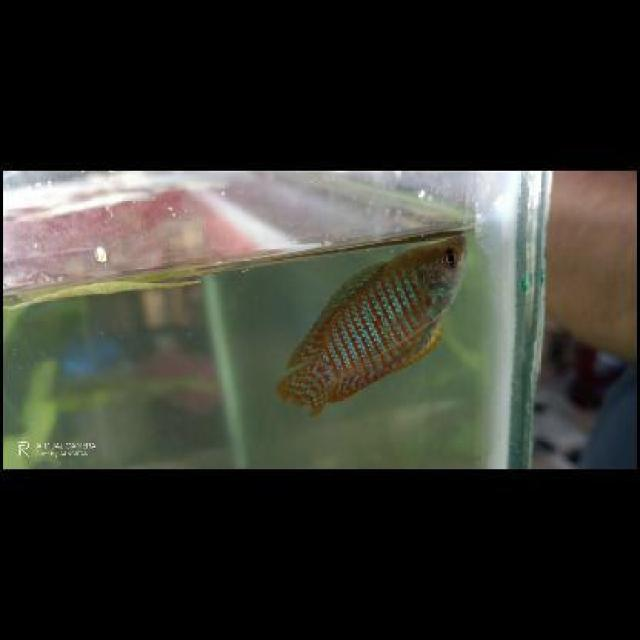Gourami: (280, 230, 466, 413)
